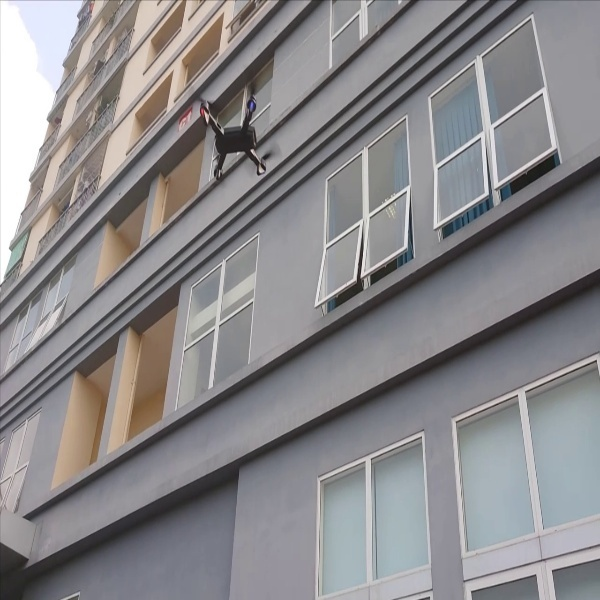drone: (194, 89, 283, 182)
